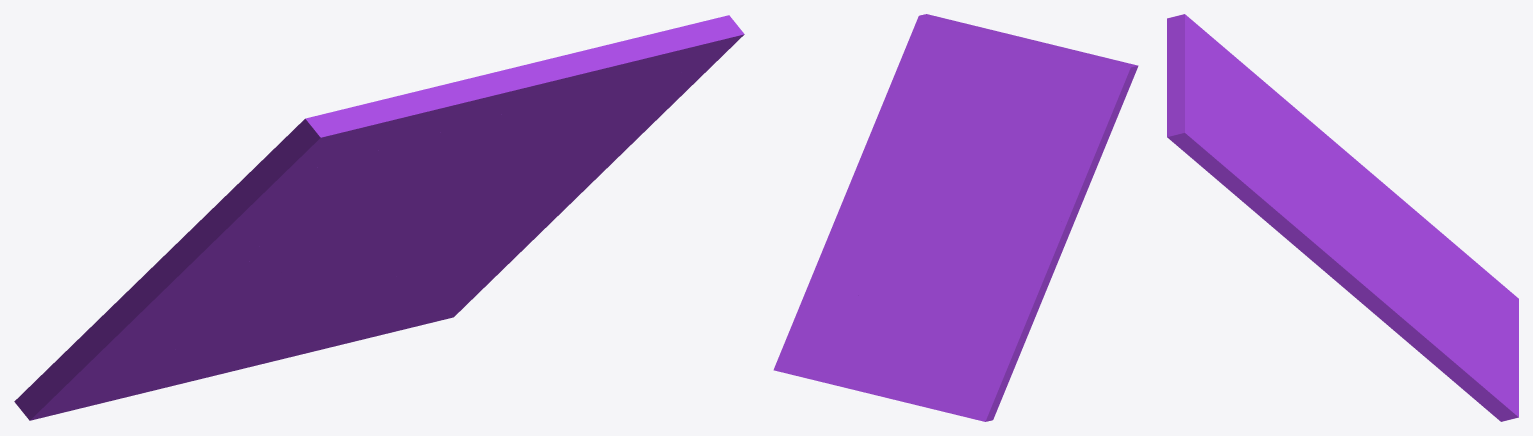
Rendered from Window_27_chunks.fbx.
3 views of the same model, side by side, from view 1: azimuth 30°, elevation 25°; view 2: azimuth 150°, elevation 25°; view 3: azimuth 270°, elevation 25° (orthographic). The views are drawn at different scales.
Visible parts, largest first — view 1: Window_27_24, Window_27_31, Window_27_51, Window_27_5, Window_27_50, Window_27_7, Window_27_15, Window_27_9, Window_27_8, Window_27_3, Window_27_18, Window_27_29 (+20 smaller); view 2: Window_27_24, Window_27_3, Window_27_15, Window_27_29, Window_27_31, Window_27_1, Window_27_6, Window_27_21, Window_27_10, Window_27_7, Window_27_50, Window_27_12 (+27 smaller); view 3: Window_27_3, Window_27_19, Window_27_24, Window_27_21, Window_27_31, Window_27_15, Window_27_23, Window_27_29, Window_27_50, Window_27_32, Window_27_1, Window_27_51 (+28 smaller).
Boxes of the visible parts, bbox=[...] form: Window_27_24: bbox=[176, 148, 411, 274]; Window_27_31: bbox=[537, 15, 744, 123]; Window_27_51: bbox=[286, 83, 470, 162]; Window_27_5: bbox=[14, 346, 169, 420]; Window_27_50: bbox=[421, 53, 592, 137]; Window_27_7: bbox=[154, 305, 267, 389]; Window_27_15: bbox=[292, 278, 403, 356]; Window_27_9: bbox=[138, 244, 323, 313]; Window_27_8: bbox=[72, 303, 268, 363]; Window_27_3: bbox=[389, 148, 538, 247]; Window_27_18: bbox=[462, 173, 574, 235]; Window_27_29: bbox=[445, 58, 707, 172]; Window_27_24: bbox=[1023, 103, 1121, 236]; Window_27_3: bbox=[872, 106, 952, 255]; Window_27_15: bbox=[800, 286, 903, 390]; Window_27_29: bbox=[919, 34, 994, 157]; Window_27_31: bbox=[917, 14, 1001, 89]; Window_27_1: bbox=[933, 293, 1033, 341]; Window_27_6: bbox=[906, 345, 981, 418]; Window_27_21: bbox=[773, 302, 845, 376]; Window_27_10: bbox=[951, 265, 1048, 312]; Window_27_7: bbox=[876, 327, 960, 402]; Window_27_50: bbox=[997, 32, 1062, 88]; Window_27_12: bbox=[979, 232, 1061, 273]; Window_27_3: bbox=[1259, 170, 1392, 282]; Window_27_19: bbox=[1267, 209, 1376, 302]; Window_27_24: bbox=[1219, 43, 1332, 152]; Window_27_21: bbox=[1440, 341, 1518, 421]; Window_27_31: bbox=[1167, 89, 1238, 146]; Window_27_15: bbox=[1423, 294, 1518, 401]; Window_27_23: bbox=[1378, 289, 1457, 368]; Window_27_29: bbox=[1201, 139, 1298, 185]; Window_27_50: bbox=[1167, 54, 1220, 102]; Window_27_32: bbox=[1190, 150, 1288, 216]; Window_27_1: bbox=[1408, 205, 1448, 284]; Window_27_51: bbox=[1167, 14, 1206, 64].
Bounding box in the file's own units: 1009 × 1146 × 1263.
